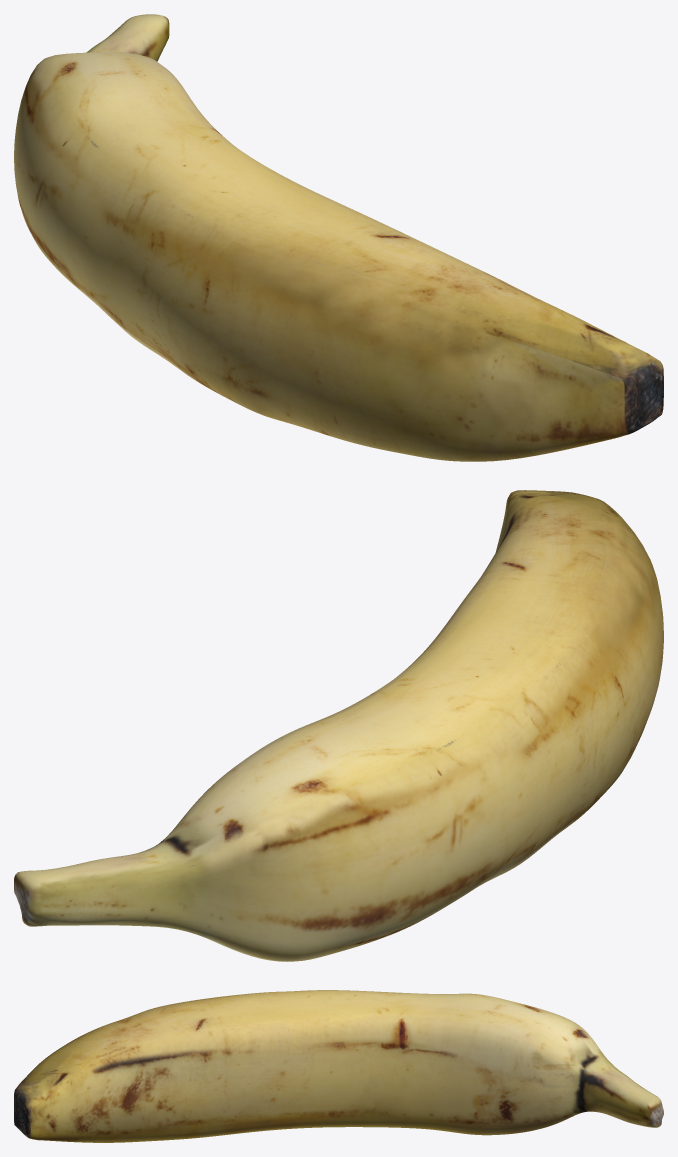
File: Banana.temp_caseinsensitive_rename.dae
3 views of the same model, one above another, from view 1: azimuth 30°, elevation 25°; view 2: azimuth 150°, elevation 25°; view 3: azimuth 270°, elevation 25° (orthographic). The views are drawn at different scales.
Parts seen in each view (by area): view 1: banana_001; view 2: banana_001; view 3: banana_001.
Boxes of the visible parts, left/top/right/bottom form: banana_001: left=14, top=14, right=663, bottom=461; banana_001: left=14, top=490, right=663, bottom=961; banana_001: left=14, top=990, right=663, bottom=1142.
Size of the model in its own units: 3.48 by 2.07 by 10.35.
1 material, 1 textured.
